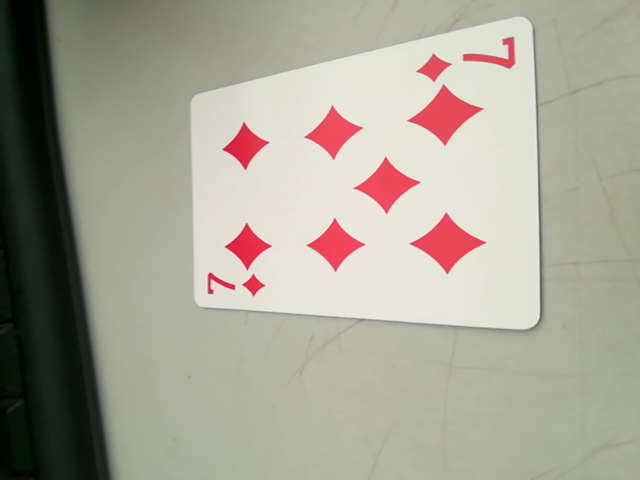fk 7: (418, 32, 523, 83), (199, 267, 266, 306)
